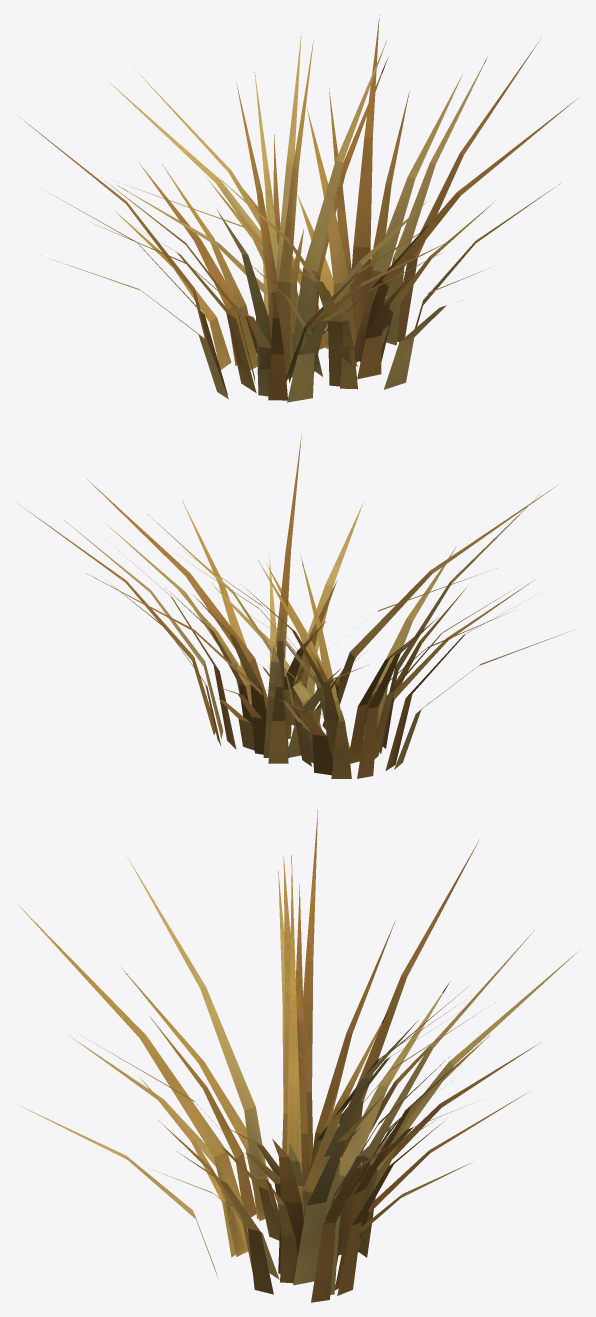
Rendered from grass_dry_idle.glb.
The picture shows the model from 3 angles, top to bottom: view 1: azimuth 30°, elevation 25°; view 2: azimuth 150°, elevation 25°; view 3: azimuth 270°, elevation 25°; orthographic projection. The views are drawn at different scales.
Parts seen in each view (by area): view 1: grass_dry; view 2: grass_dry; view 3: grass_dry.
Boxes of the visible parts, bbox=[...] form: grass_dry: bbox=[22, 15, 577, 402]; grass_dry: bbox=[19, 435, 570, 778]; grass_dry: bbox=[17, 810, 580, 1302].
Bounding box in the file's own units: 1.11 × 0.4983 × 0.8515.
Materials: 1 (1 with a texture image).
